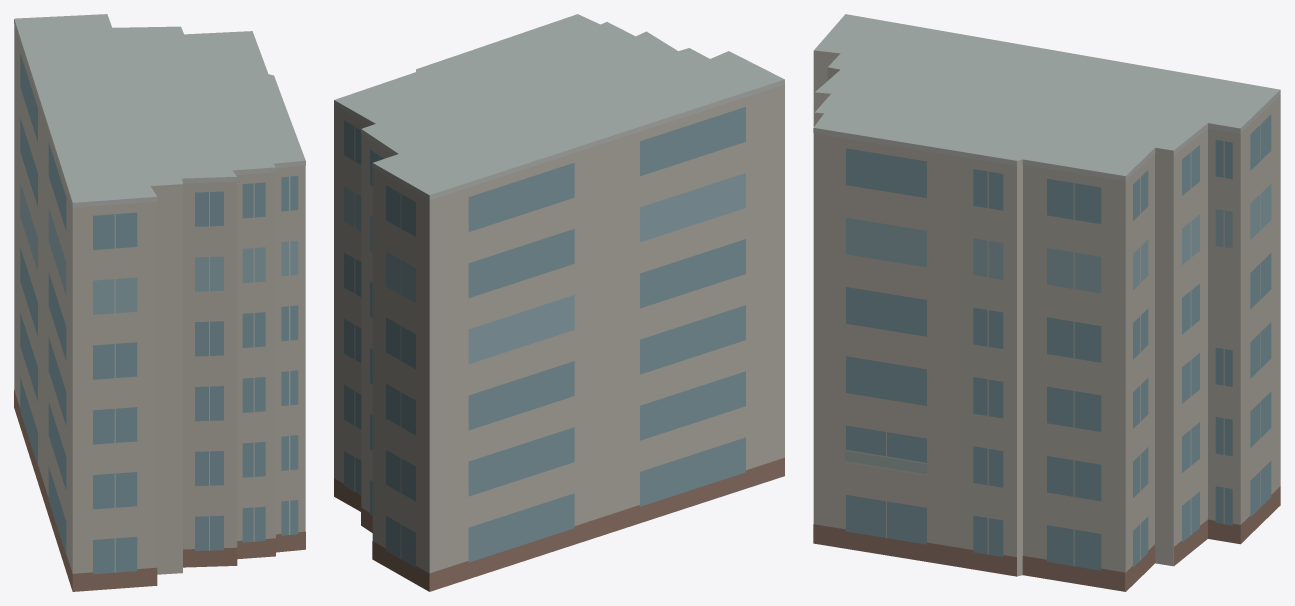
Rendered from survey-upis-33009275.glb.
3 renders of one model, left to right at view 1: azimuth 30°, elevation 25°; view 2: azimuth 150°, elevation 25°; view 3: azimuth 270°, elevation 25°, orthographic. The views are drawn at different scales.
Visible parts, largest first — view 1: survey-upis-33009275.tmp; view 2: survey-upis-33009275.tmp; view 3: survey-upis-33009275.tmp.
Boxes of the visible parts, x1,y1,x2,y2 form: survey-upis-33009275.tmp: [14, 14, 305, 591]; survey-upis-33009275.tmp: [334, 14, 784, 591]; survey-upis-33009275.tmp: [813, 14, 1280, 591].
Size of the model in its own units: 16.07 by 19.2 by 19.56.
